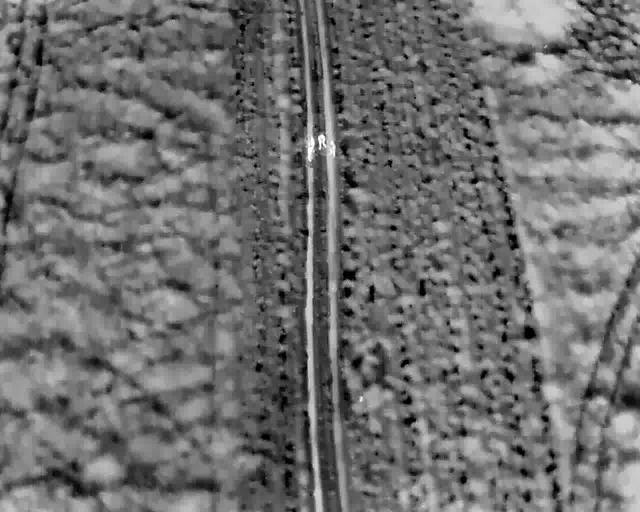person: (305, 143, 315, 162), (316, 133, 327, 150), (305, 135, 315, 153), (328, 139, 337, 157)
